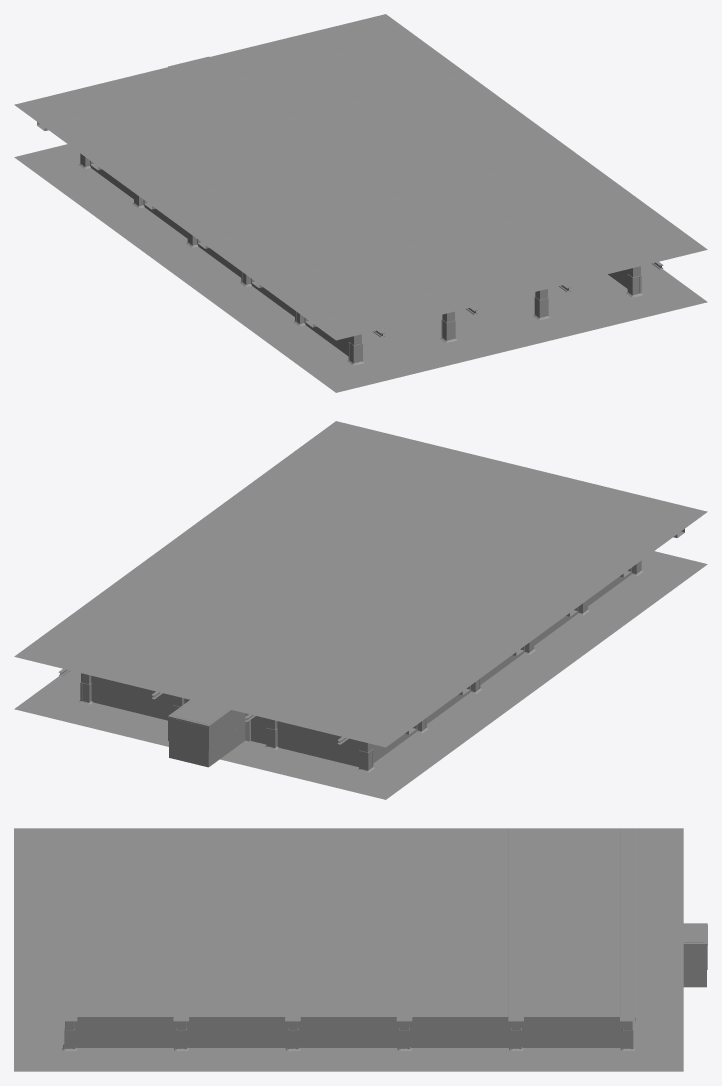
Rendered from parking.fbx.
3 views of the same model, one above another, from view 1: azimuth 30°, elevation 25°; view 2: azimuth 150°, elevation 25°; view 3: azimuth 270°, elevation 25° (orthographic). The views are drawn at different scales.
Visible parts, largest first — view 1: Cloner, wall; view 2: Cloner, asansor, Polygon_2, Polygon, wall; view 3: Cloner, wall, asansor.
Boxes of the visible parts, bbox=[...] form: Cloner: bbox=[14, 14, 707, 392]; wall: bbox=[90, 160, 628, 356]; Cloner: bbox=[14, 421, 707, 799]; asansor: bbox=[168, 700, 250, 767]; Polygon_2: bbox=[277, 721, 359, 766]; Polygon: bbox=[91, 675, 173, 720]; wall: bbox=[372, 567, 631, 763]; Cloner: bbox=[14, 828, 683, 1071]; wall: bbox=[74, 1017, 623, 1047]; asansor: bbox=[683, 923, 707, 987].
Size of the model in its own units: 2800 by 382 by 4352.
10 materials, 1 textured.
